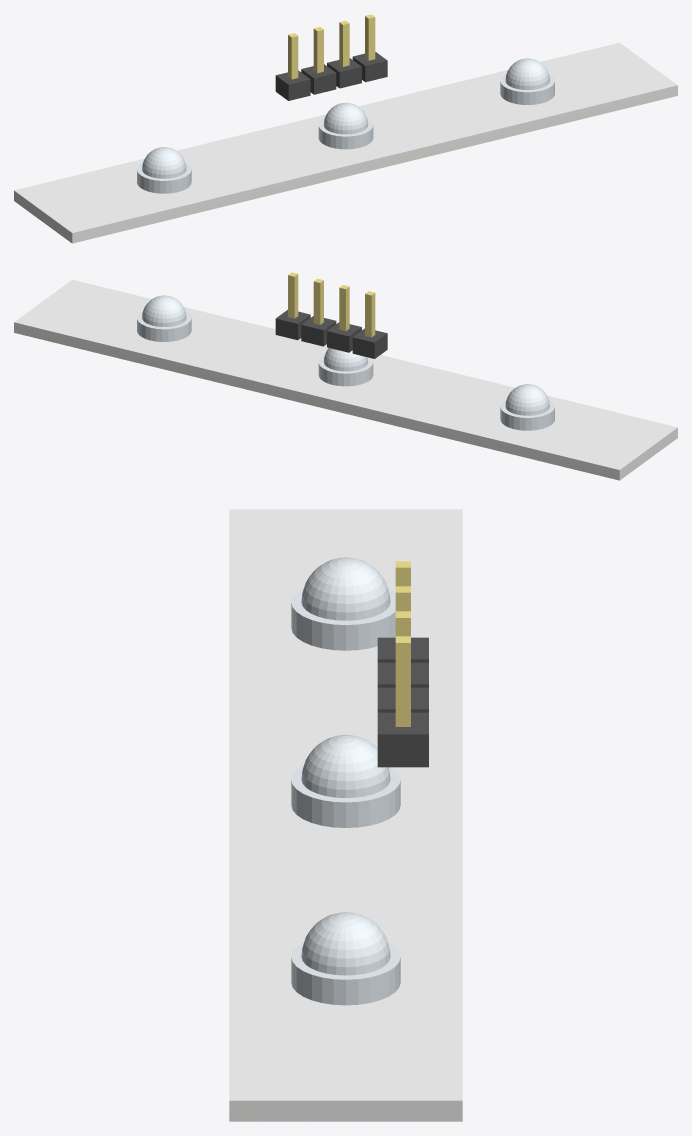
The model's file is neopixel.glb.
The picture shows the model from 3 angles, top to bottom: view 1: azimuth 30°, elevation 25°; view 2: azimuth 150°, elevation 25°; view 3: azimuth 270°, elevation 25°; orthographic projection. The views are drawn at different scales.
Visible parts, largest first — view 1: neopixel-ws2812b-strip_mesh; view 2: neopixel-ws2812b-strip_mesh; view 3: neopixel-ws2812b-strip_mesh.
Boxes of the visible parts, left/top/right/bottom form: neopixel-ws2812b-strip_mesh: left=14, top=14, right=677, bottom=243; neopixel-ws2812b-strip_mesh: left=14, top=272, right=677, bottom=480; neopixel-ws2812b-strip_mesh: left=229, top=509, right=462, bottom=1121.
Bounding box in the file's own units: 60 × 10.73 × 10.
